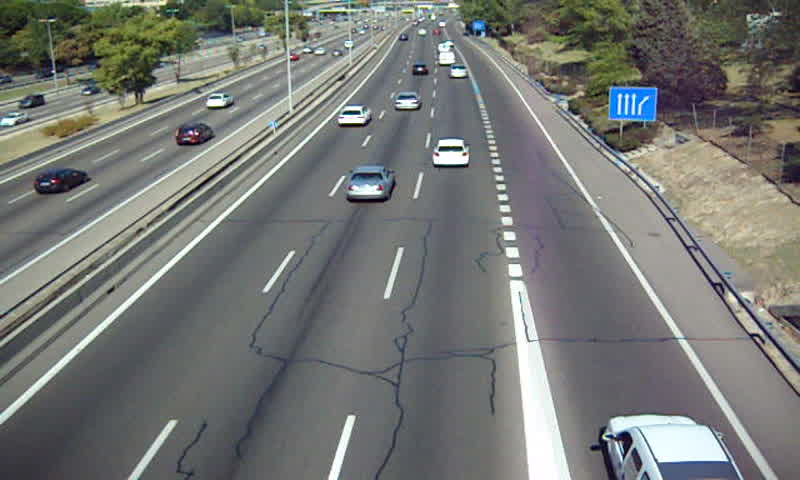car: (343, 166, 393, 201), (432, 139, 469, 166), (336, 105, 370, 128), (394, 91, 422, 112), (449, 64, 469, 79), (409, 64, 429, 78)
van: (437, 52, 457, 66)
